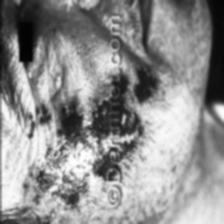Toxin: (57, 98, 88, 148), (130, 61, 154, 99)
